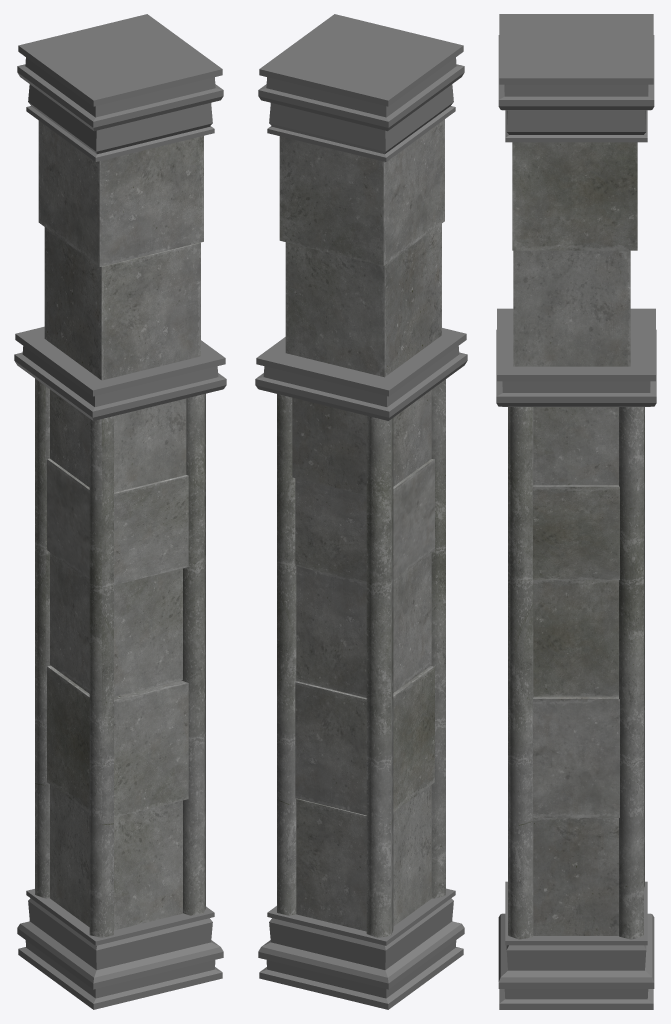
File: SM_pillar_large_02.fbx
The picture shows the model from 3 angles, left to right: view 1: azimuth 30°, elevation 25°; view 2: azimuth 150°, elevation 25°; view 3: azimuth 270°, elevation 25°; orthographic projection. The views are drawn at different scales.
Parts seen in each view (by area): view 1: DarkFantasyObject185; view 2: DarkFantasyObject185; view 3: DarkFantasyObject185.
Boxes of the visible parts, x1,y1,x2,y2 form: DarkFantasyObject185: [14, 14, 226, 1009]; DarkFantasyObject185: [255, 14, 467, 1009]; DarkFantasyObject185: [496, 14, 656, 1009].
Size of the model in its own units: 61.17 by 396 by 61.86.
